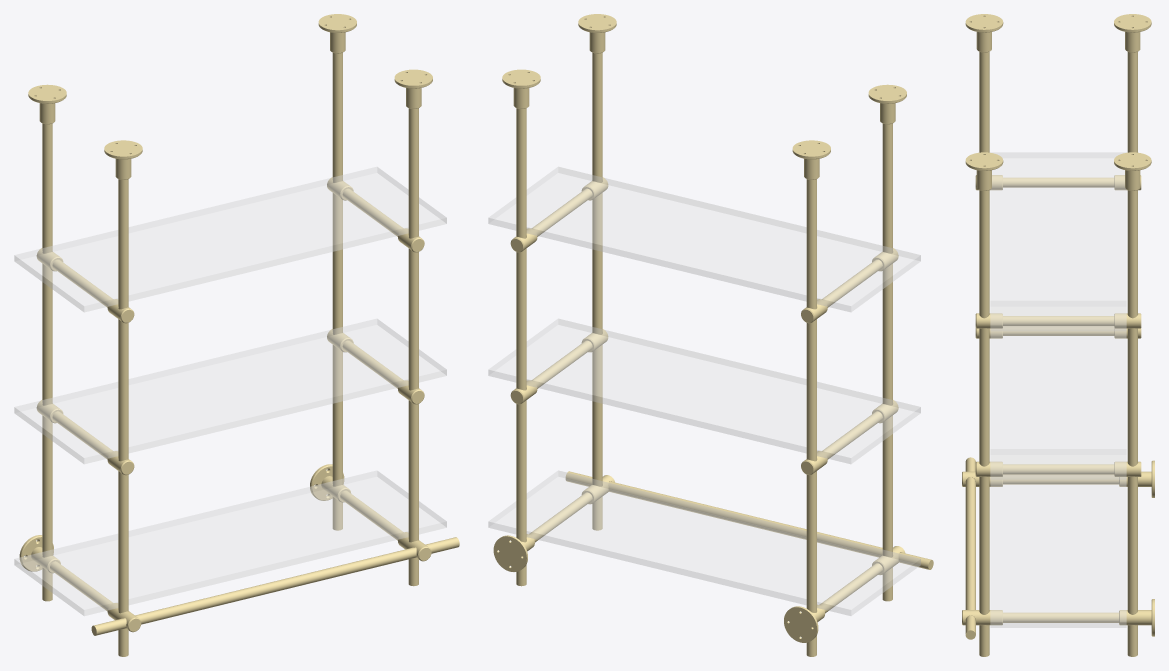
File: wall_ceiling_30w_40h_3s_br.glb
3 renders of one model, left to right at view 1: azimuth 30°, elevation 25°; view 2: azimuth 150°, elevation 25°; view 3: azimuth 270°, elevation 25°, orthographic. The views are drawn at different scales.
Visible parts, largest first — view 1: Glass Shelf (4) (×2), Glass Shelf (3), Post (7), Post (5), Post (6), Post (4), Crossbeam, Rod (13) (×2), Rod (12) (×2), Rod (10), Rod (11); view 2: Glass Shelf (4) (×2), Glass Shelf (3), Post (6), Post (4), Post (7), Post (5), Crossbeam, Rod (13) (×2), Rod (12) (×2), J Fitting (4), J Fitting (5), Rod (10) (+1 smaller); view 3: Glass Shelf (4) (×2), Glass Shelf (3), Post (6), Post (7), Rod (12) (×2), Rod (13) (×2), Crossbeam, Rod (11), Rod (10), Post (4), Post (5), G Fitting (4) (×2) (+8 smaller).
Part boxes in pixels (x1,y1,x2,y2): Glass Shelf (4) (×2): [14, 167, 446, 463]; Glass Shelf (3): [14, 470, 446, 615]; Post (7): [332, 52, 342, 530]; Post (5): [42, 123, 52, 601]; Post (6): [408, 108, 418, 586]; Post (4): [118, 179, 128, 656]; Crossbeam: [91, 537, 459, 635]; Rod (13) (×2): [52, 259, 113, 459]; Rod (12) (×2): [342, 188, 403, 388]; Rod (10): [50, 561, 113, 611]; Rod (11): [340, 490, 403, 540]; Glass Shelf (4) (×2): [488, 167, 920, 463]; Glass Shelf (3): [488, 470, 920, 615]; Post (6): [592, 52, 602, 530]; Post (4): [882, 123, 892, 601]; Post (7): [516, 108, 526, 586]; Post (5): [806, 179, 816, 656]; Crossbeam: [565, 471, 933, 569]; Rod (13) (×2): [822, 259, 882, 459]; Rod (12) (×2): [531, 188, 592, 388]; J Fitting (4): [784, 606, 818, 642]; J Fitting (5): [493, 535, 527, 571]; Rod (10): [819, 563, 882, 613]; Glass Shelf (4) (×2): [990, 152, 1126, 479]; Glass Shelf (3): [990, 449, 1126, 627]; Post (6): [979, 190, 989, 656]; Post (7): [1127, 190, 1137, 656]; Rod (12) (×2): [1003, 316, 1114, 474]; Rod (13) (×2): [1003, 177, 1114, 335]; Crossbeam: [965, 457, 975, 639]; Rod (11): [1003, 612, 1118, 622]; Rod (10): [1003, 475, 1118, 484]; Post (4): [979, 51, 989, 152]; Post (5): [1127, 51, 1137, 152]; G Fitting (4) (×2): [965, 14, 1003, 52].
Size of the model in its own units: 0.762 by 1.02 by 0.3591.
